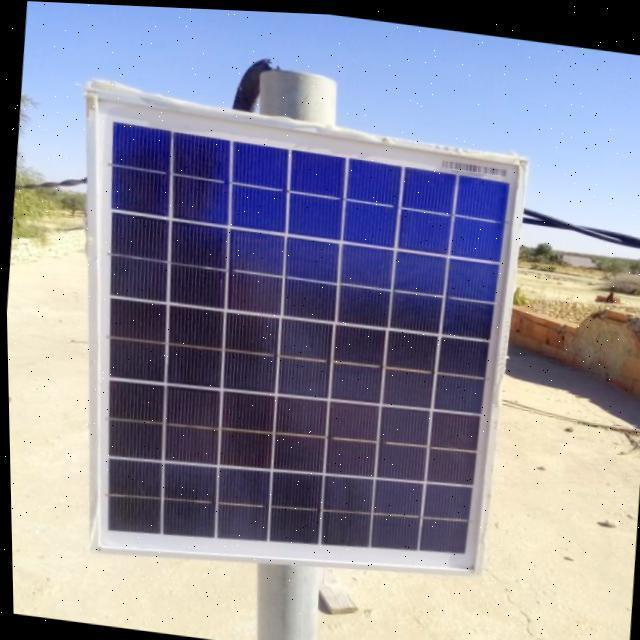Normal Solar Panel: (50, 90, 535, 599)
